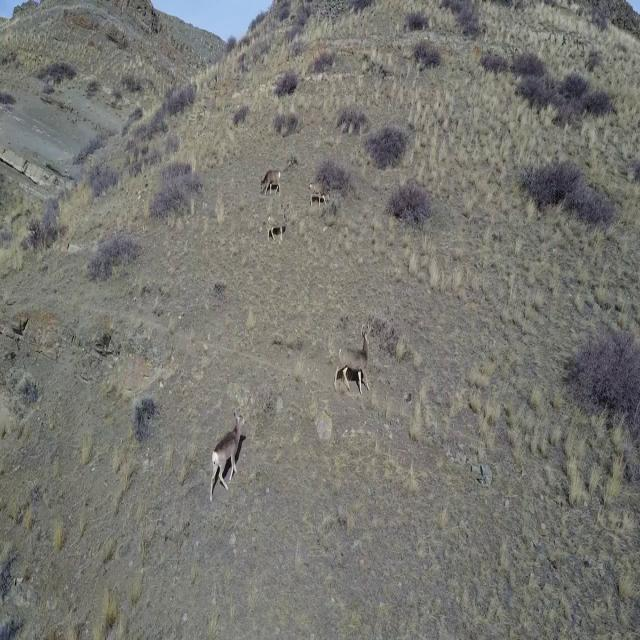Deer: (209, 407, 251, 501), (332, 319, 372, 400), (308, 166, 334, 212), (264, 201, 290, 245), (257, 164, 283, 197)
